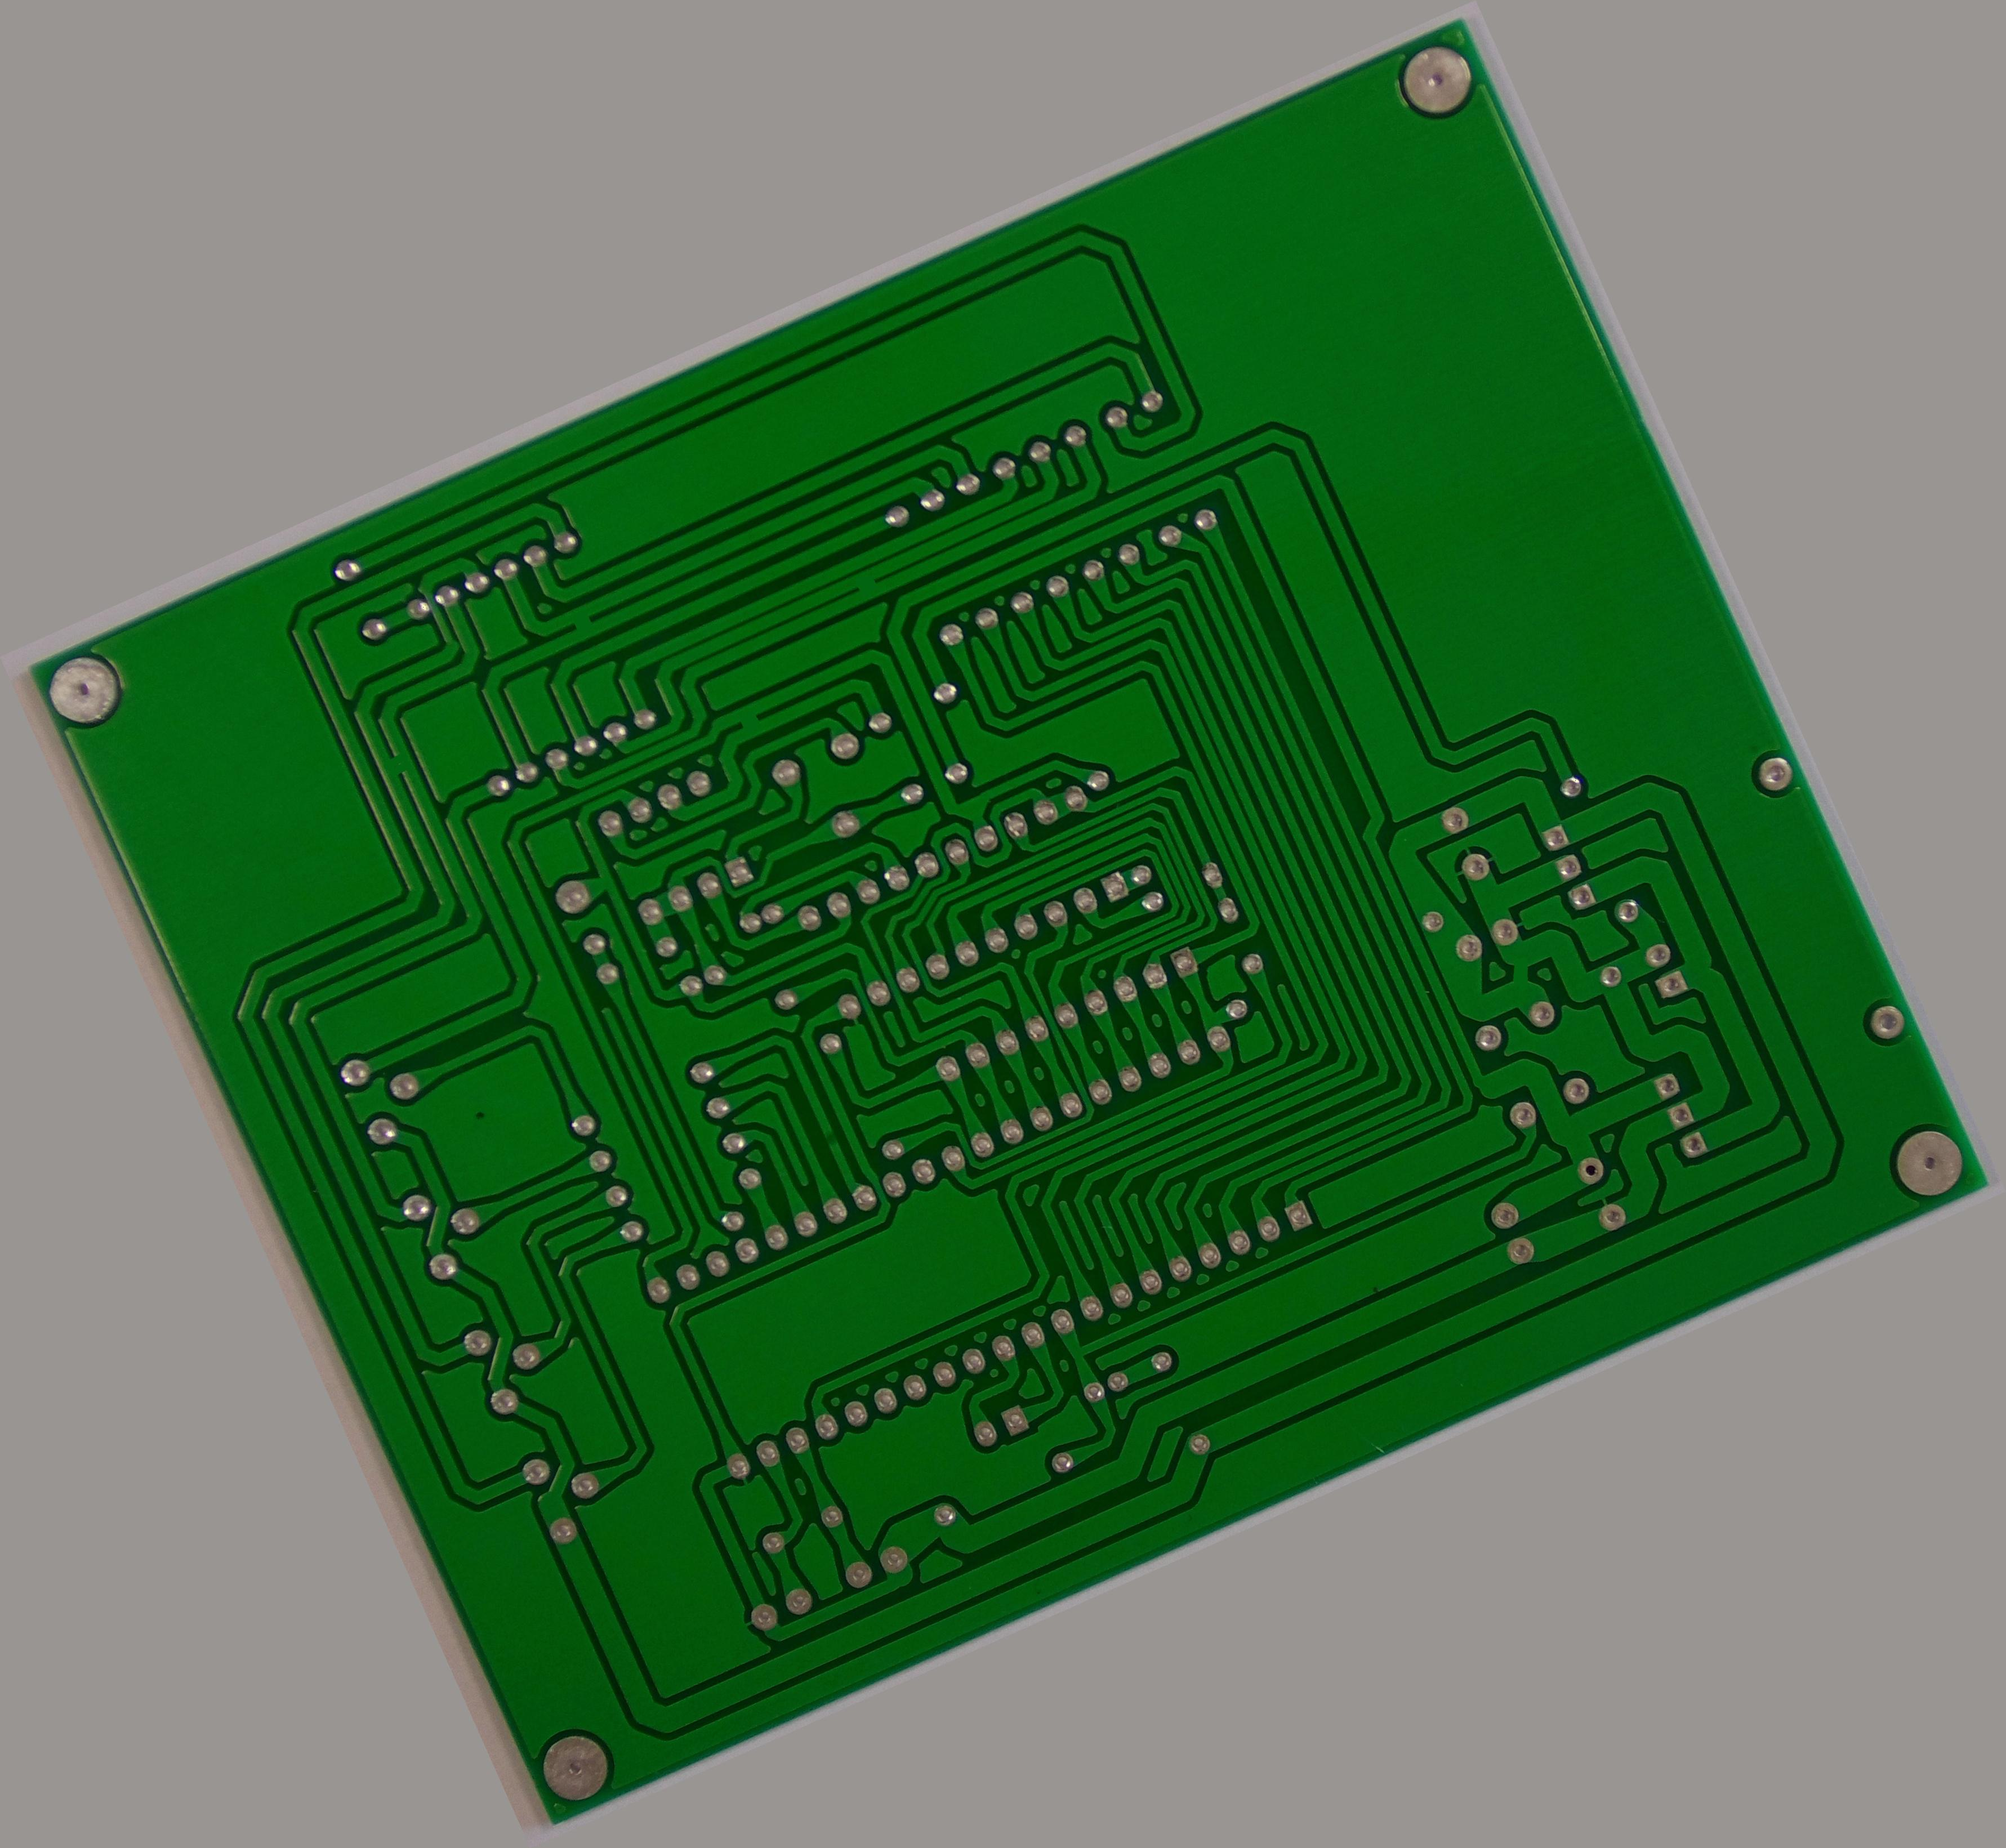short: (1491, 947, 1545, 999), (556, 596, 608, 648), (839, 562, 895, 610), (727, 697, 776, 746), (372, 742, 421, 788)
